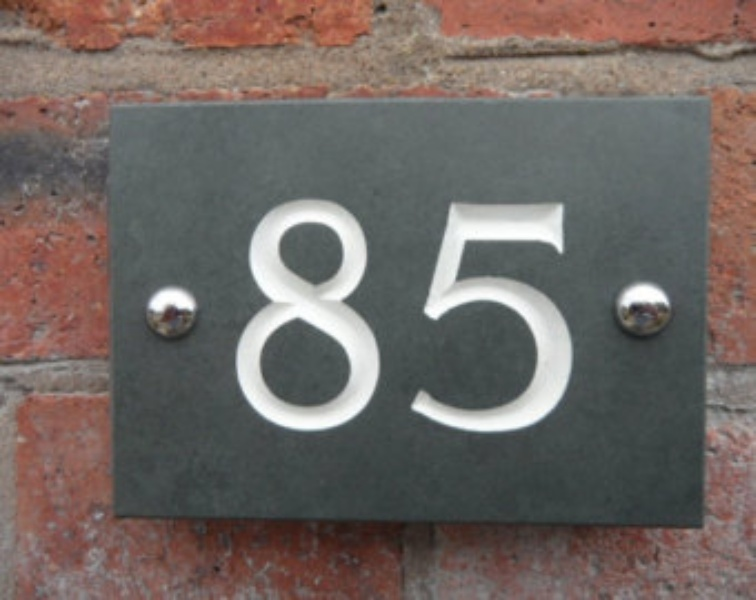text: (241, 196, 256, 436), (257, 196, 272, 436), (273, 196, 288, 436), (289, 196, 304, 436), (305, 196, 320, 436), (321, 196, 336, 436), (337, 196, 352, 436), (353, 196, 368, 436), (369, 196, 384, 436), (385, 196, 400, 436), (401, 196, 416, 436), (417, 196, 432, 436), (433, 196, 448, 436), (449, 196, 464, 436), (465, 196, 480, 436), (481, 196, 496, 436), (497, 196, 512, 436), (513, 196, 528, 436), (529, 196, 544, 436), (545, 196, 560, 436), (561, 196, 576, 436), (234, 196, 240, 436)
